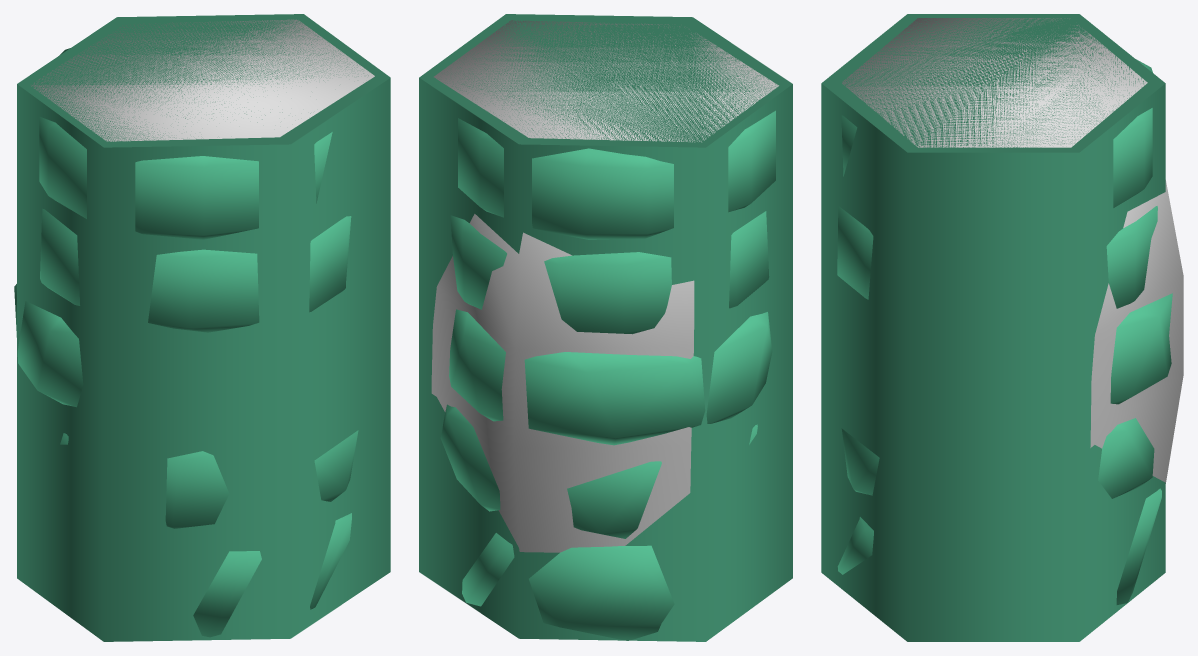
Rendered from hr_tirestack_green.dae.
3 renders of one model, left to right at view 1: azimuth 30°, elevation 25°; view 2: azimuth 150°, elevation 25°; view 3: azimuth 270°, elevation 25°, orthographic.
Visible parts, largest first — view 1: hr_tirestack_green_a010, hr_tirestack_green_a300, hr_tirestack_green_a030; view 2: hr_tirestack_green_a010, hr_tirestack_green_a300, hr_tirestack_green_a030; view 3: hr_tirestack_green_a010, hr_tirestack_green_a030, hr_tirestack_green_a300.
Boxes of the visible parts, x1,y1,x2,y2 form: hr_tirestack_green_a010: (17, 14, 390, 641); hr_tirestack_green_a300: (14, 48, 358, 637); hr_tirestack_green_a030: (31, 19, 374, 141); hr_tirestack_green_a010: (419, 14, 792, 641); hr_tirestack_green_a300: (440, 110, 775, 640); hr_tirestack_green_a030: (431, 20, 778, 552); hr_tirestack_green_a010: (821, 14, 1165, 641); hr_tirestack_green_a030: (842, 18, 1183, 483); hr_tirestack_green_a300: (837, 59, 1172, 604).
Size of the model in its own units: 0.6714 by 0.7064 by 1.05.
